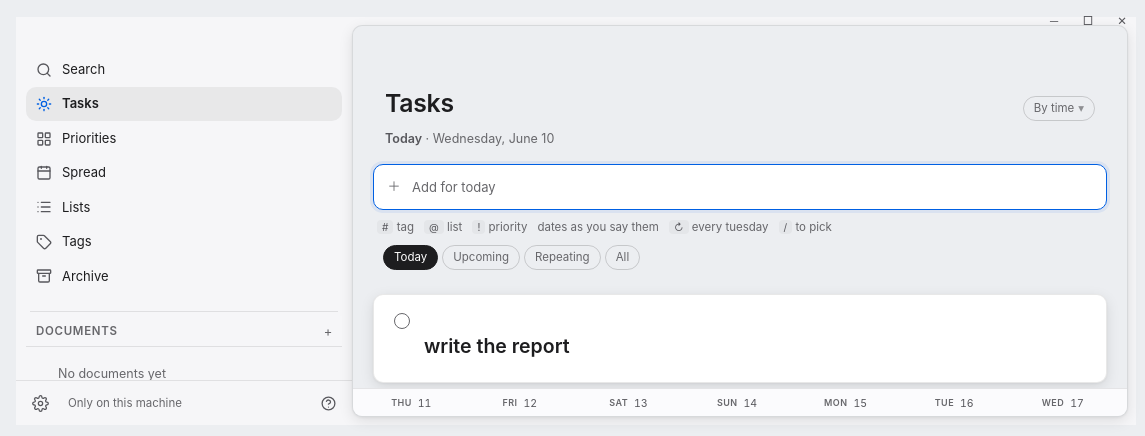
the archive reads in layers › opens on what has something to tell, not on everything closed
The image size is (1145, 436).
Expected: the heading "write the report" is shown, [424, 334, 570, 358]
Click the button "Archive" at [85, 276], box [26, 260, 342, 293]
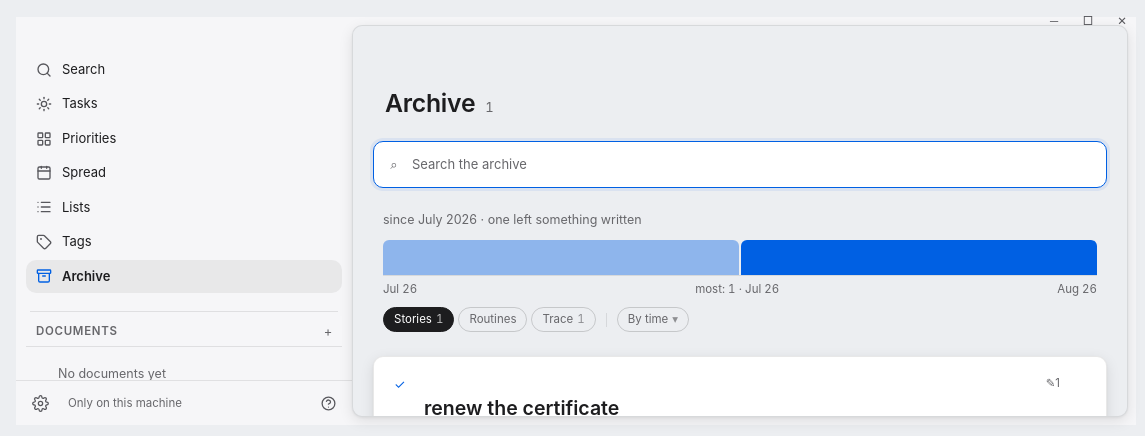
Expected: the heading "renew the certificate" is shown, [424, 396, 619, 416]
